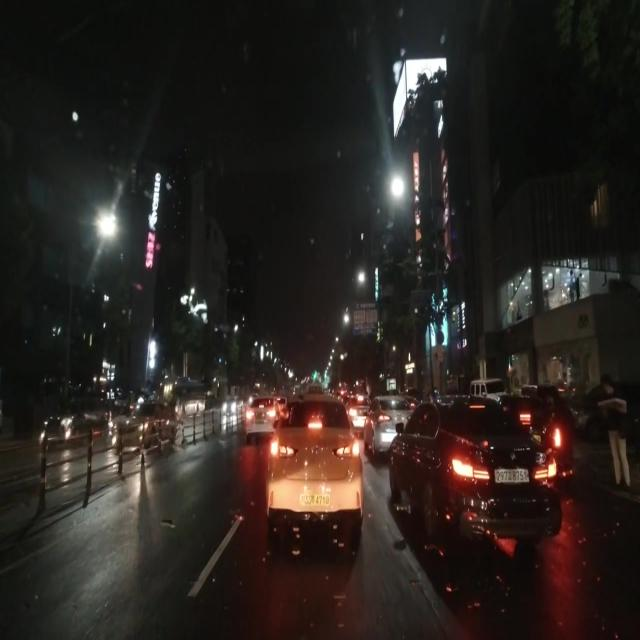Car: (388, 396, 555, 549), (263, 396, 360, 527), (112, 400, 173, 448), (365, 396, 401, 443), (246, 400, 273, 434)
